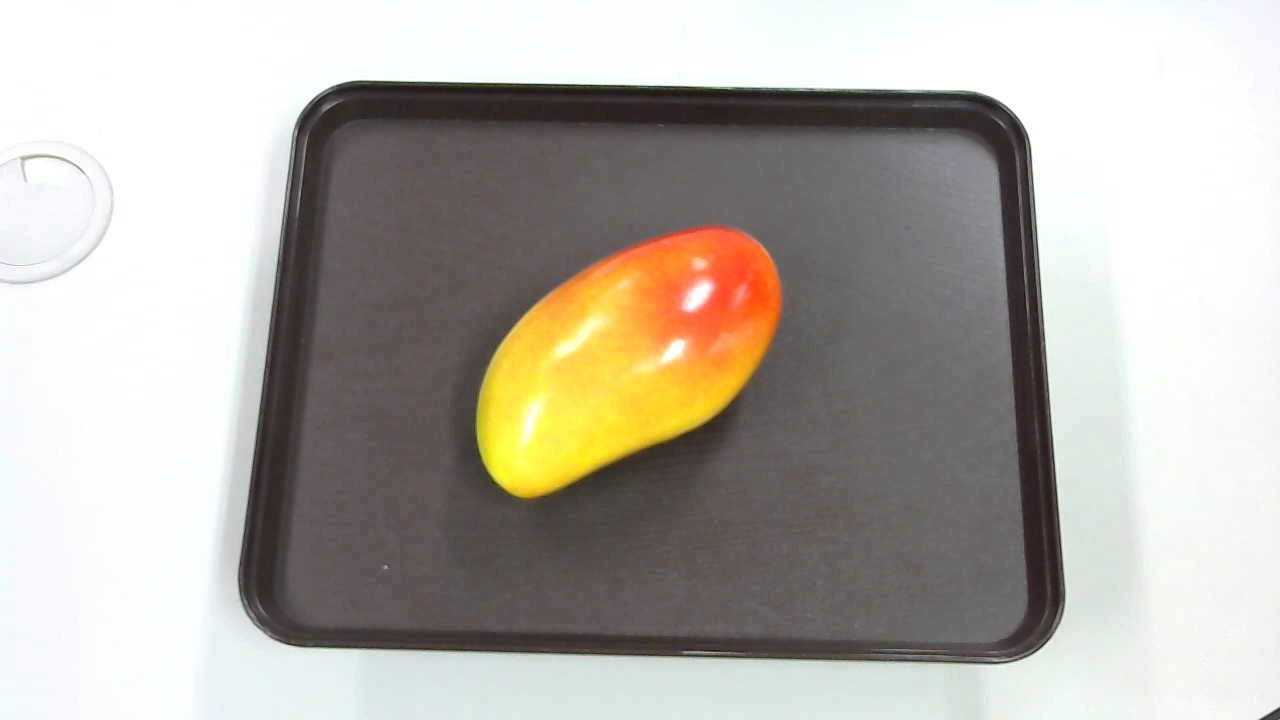red mango: (476, 219, 785, 503)
